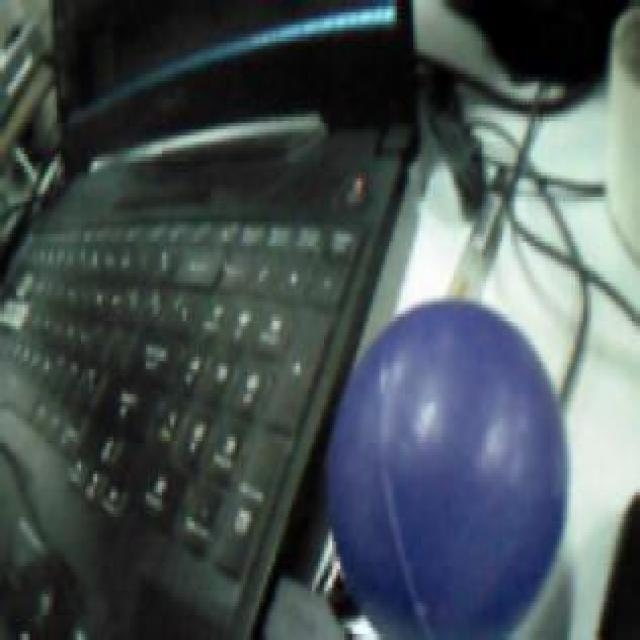BallPurple: (326, 298, 565, 640)
